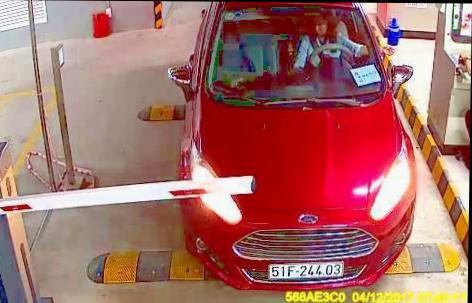License_Plate: (268, 259, 346, 282)
